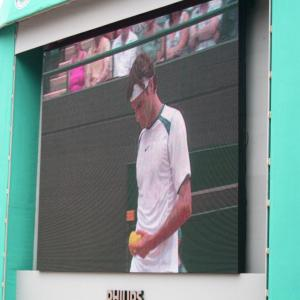TennisBall: (130, 231, 143, 244)
